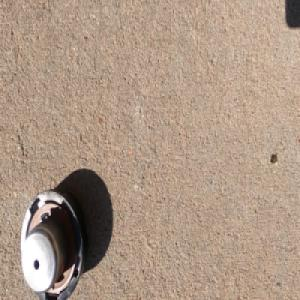FuelCap: (17, 185, 88, 300)
